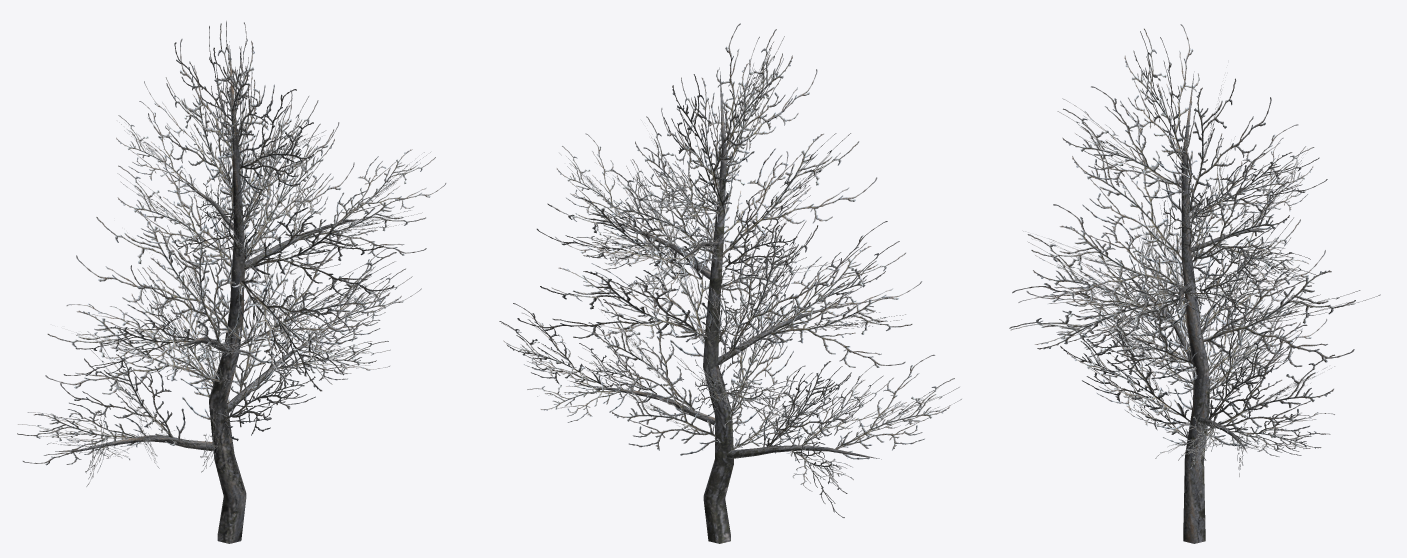
File: SC_bingfengyiji_05.FBX
3 views of the same model, side by side, from view 1: azimuth 30°, elevation 25°; view 2: azimuth 150°, elevation 25°; view 3: azimuth 270°, elevation 25° (orthographic). The views are drawn at different scales.
Visible parts, largest first — view 1: SC_bingfengyiji_05; view 2: SC_bingfengyiji_05; view 3: SC_bingfengyiji_05.
Boxes of the visible parts, x1,y1,x2,y2 form: SC_bingfengyiji_05: (17, 21, 446, 543); SC_bingfengyiji_05: (499, 23, 961, 543); SC_bingfengyiji_05: (1009, 24, 1380, 543).
Size of the model in its own units: 556 by 649 by 454.
